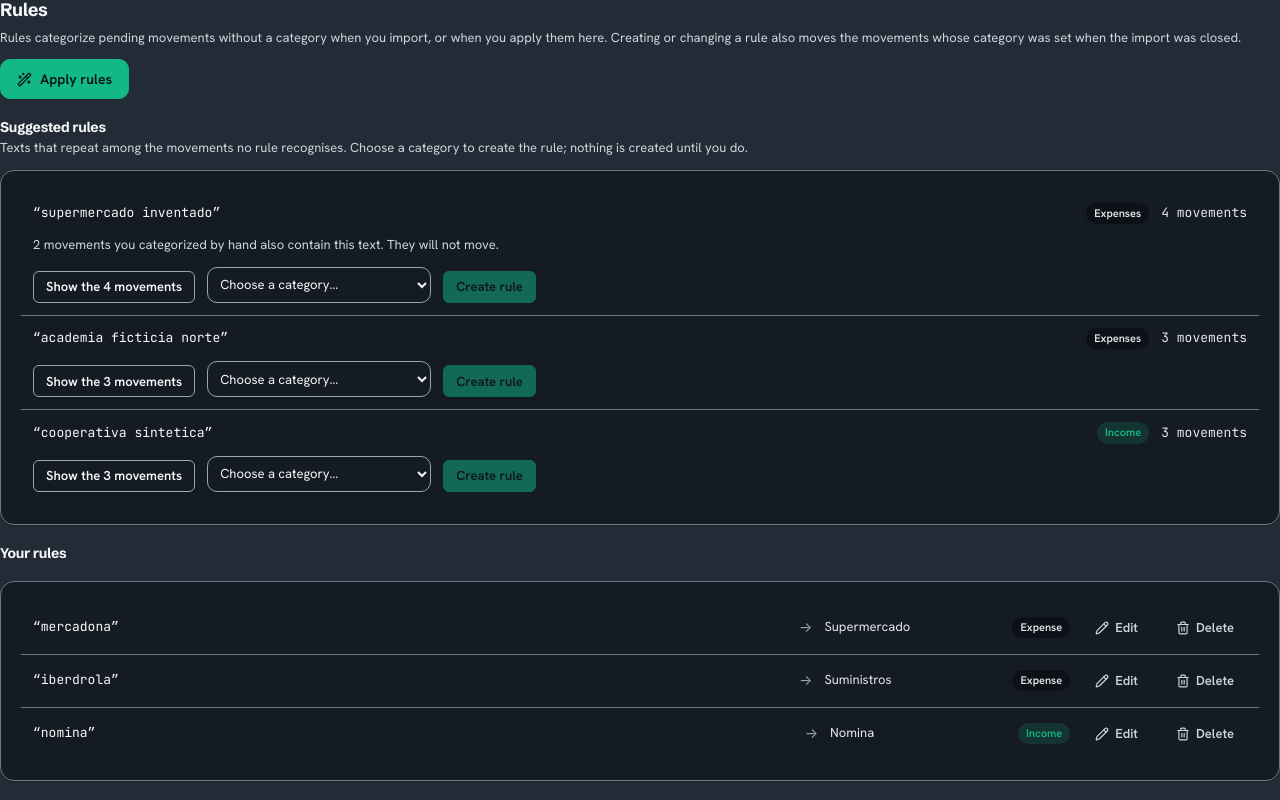
RulesView (R7, R8, R9, R10) › the suggested rules (feature 33) › draws the line of the created rule inside the block that sticks under the top bar
Select "Suministros" in the dropdown below "“academia ficticia norte”" at (319, 379), box [207,361,431,397]
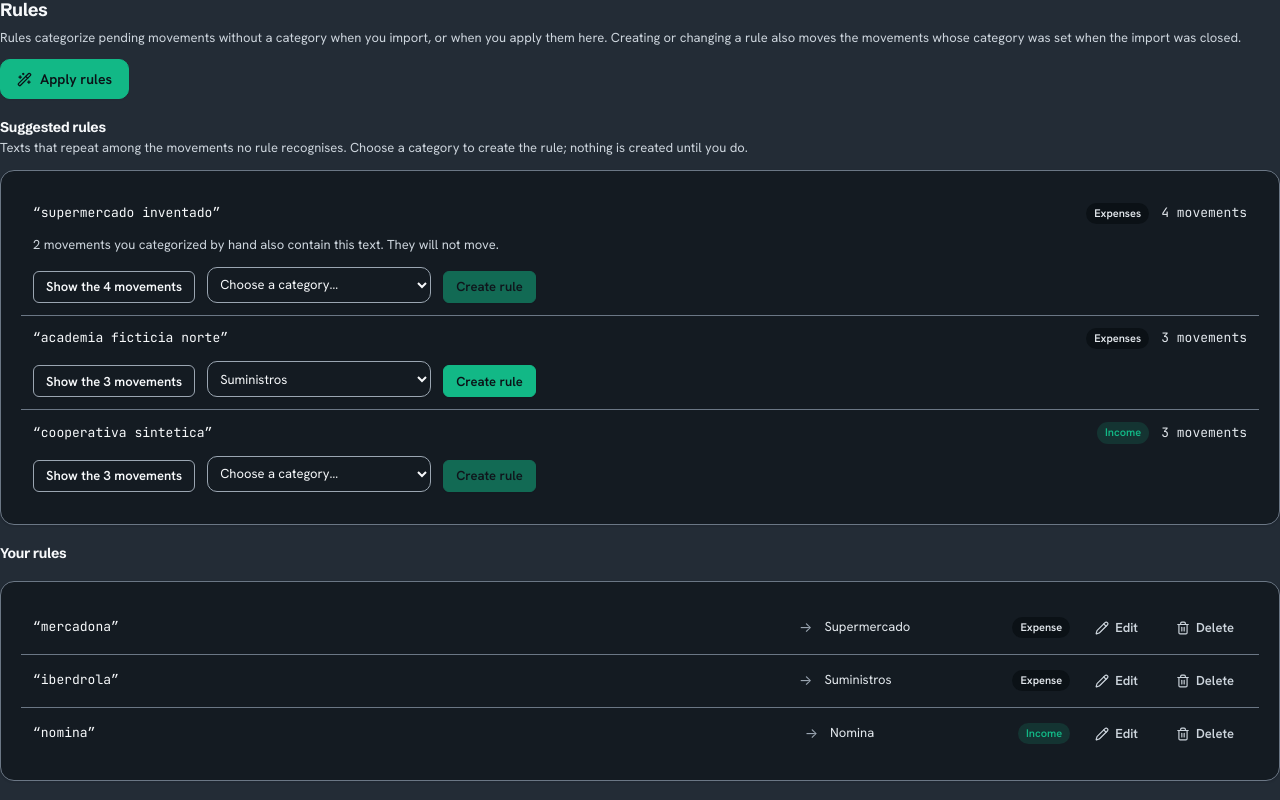
Click the button with test id "suggested-rule-create" at (489, 381), box [443,365,536,397]
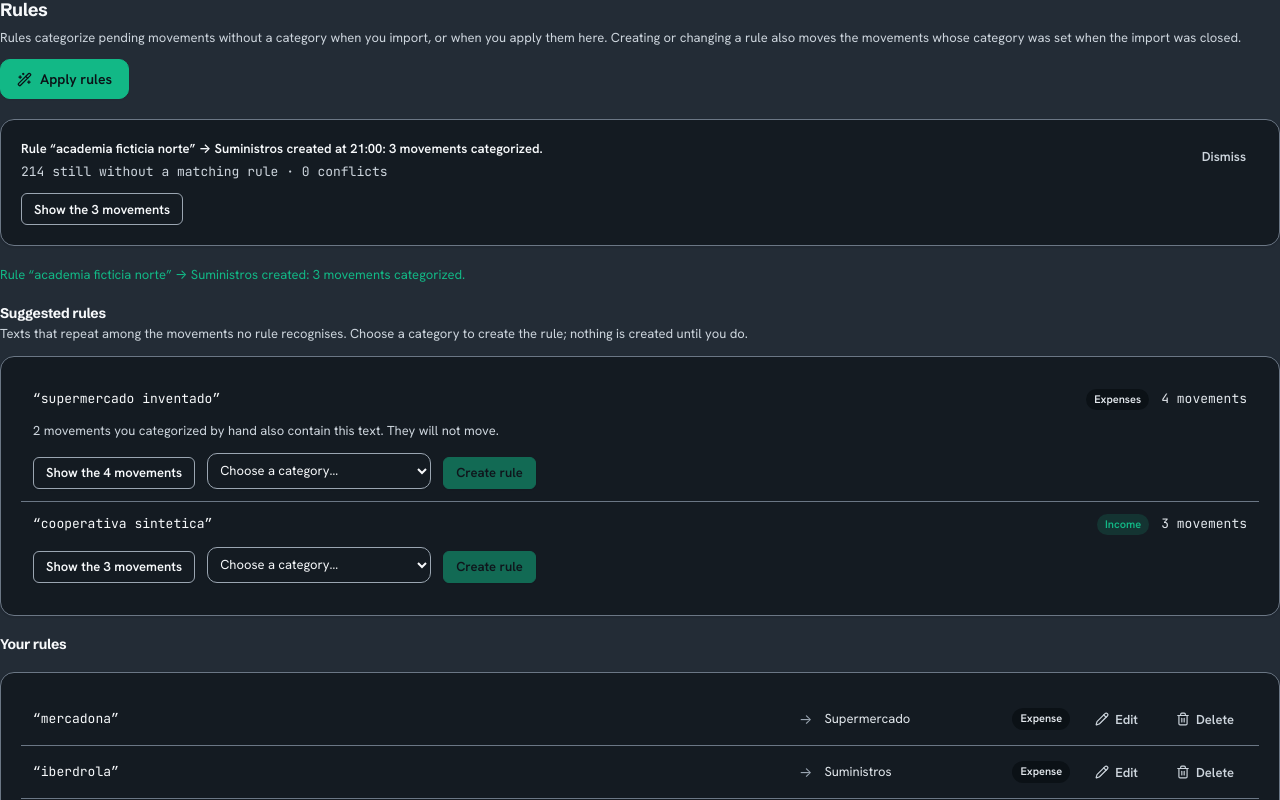
Expected: the element with test id "rule-created-notice" reads "Rule “academia ficticia norte” → Suministros created: 3 movements categorized.", [0,266,465,283]
Expected: the elements with test id "suggested-rule-text" read "“supermercado inventado”", "“cooperativa sintetica”", in this order, [33,390,220,407]; [33,515,212,532]
Expected: the number of list items with test id "rule-row" is 4
